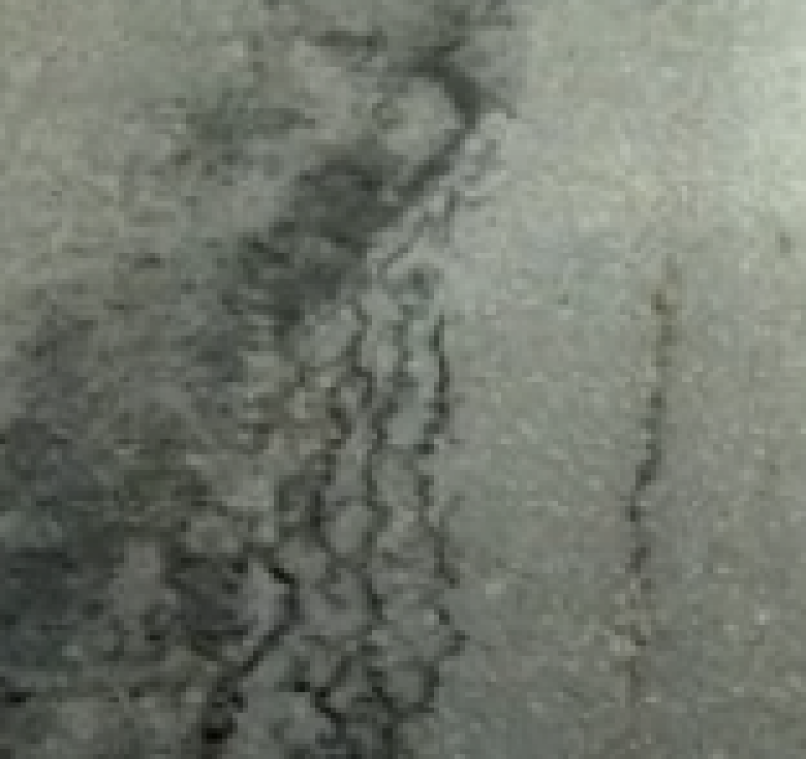Retak Buaya: (181, 27, 484, 759), (621, 260, 668, 739)
